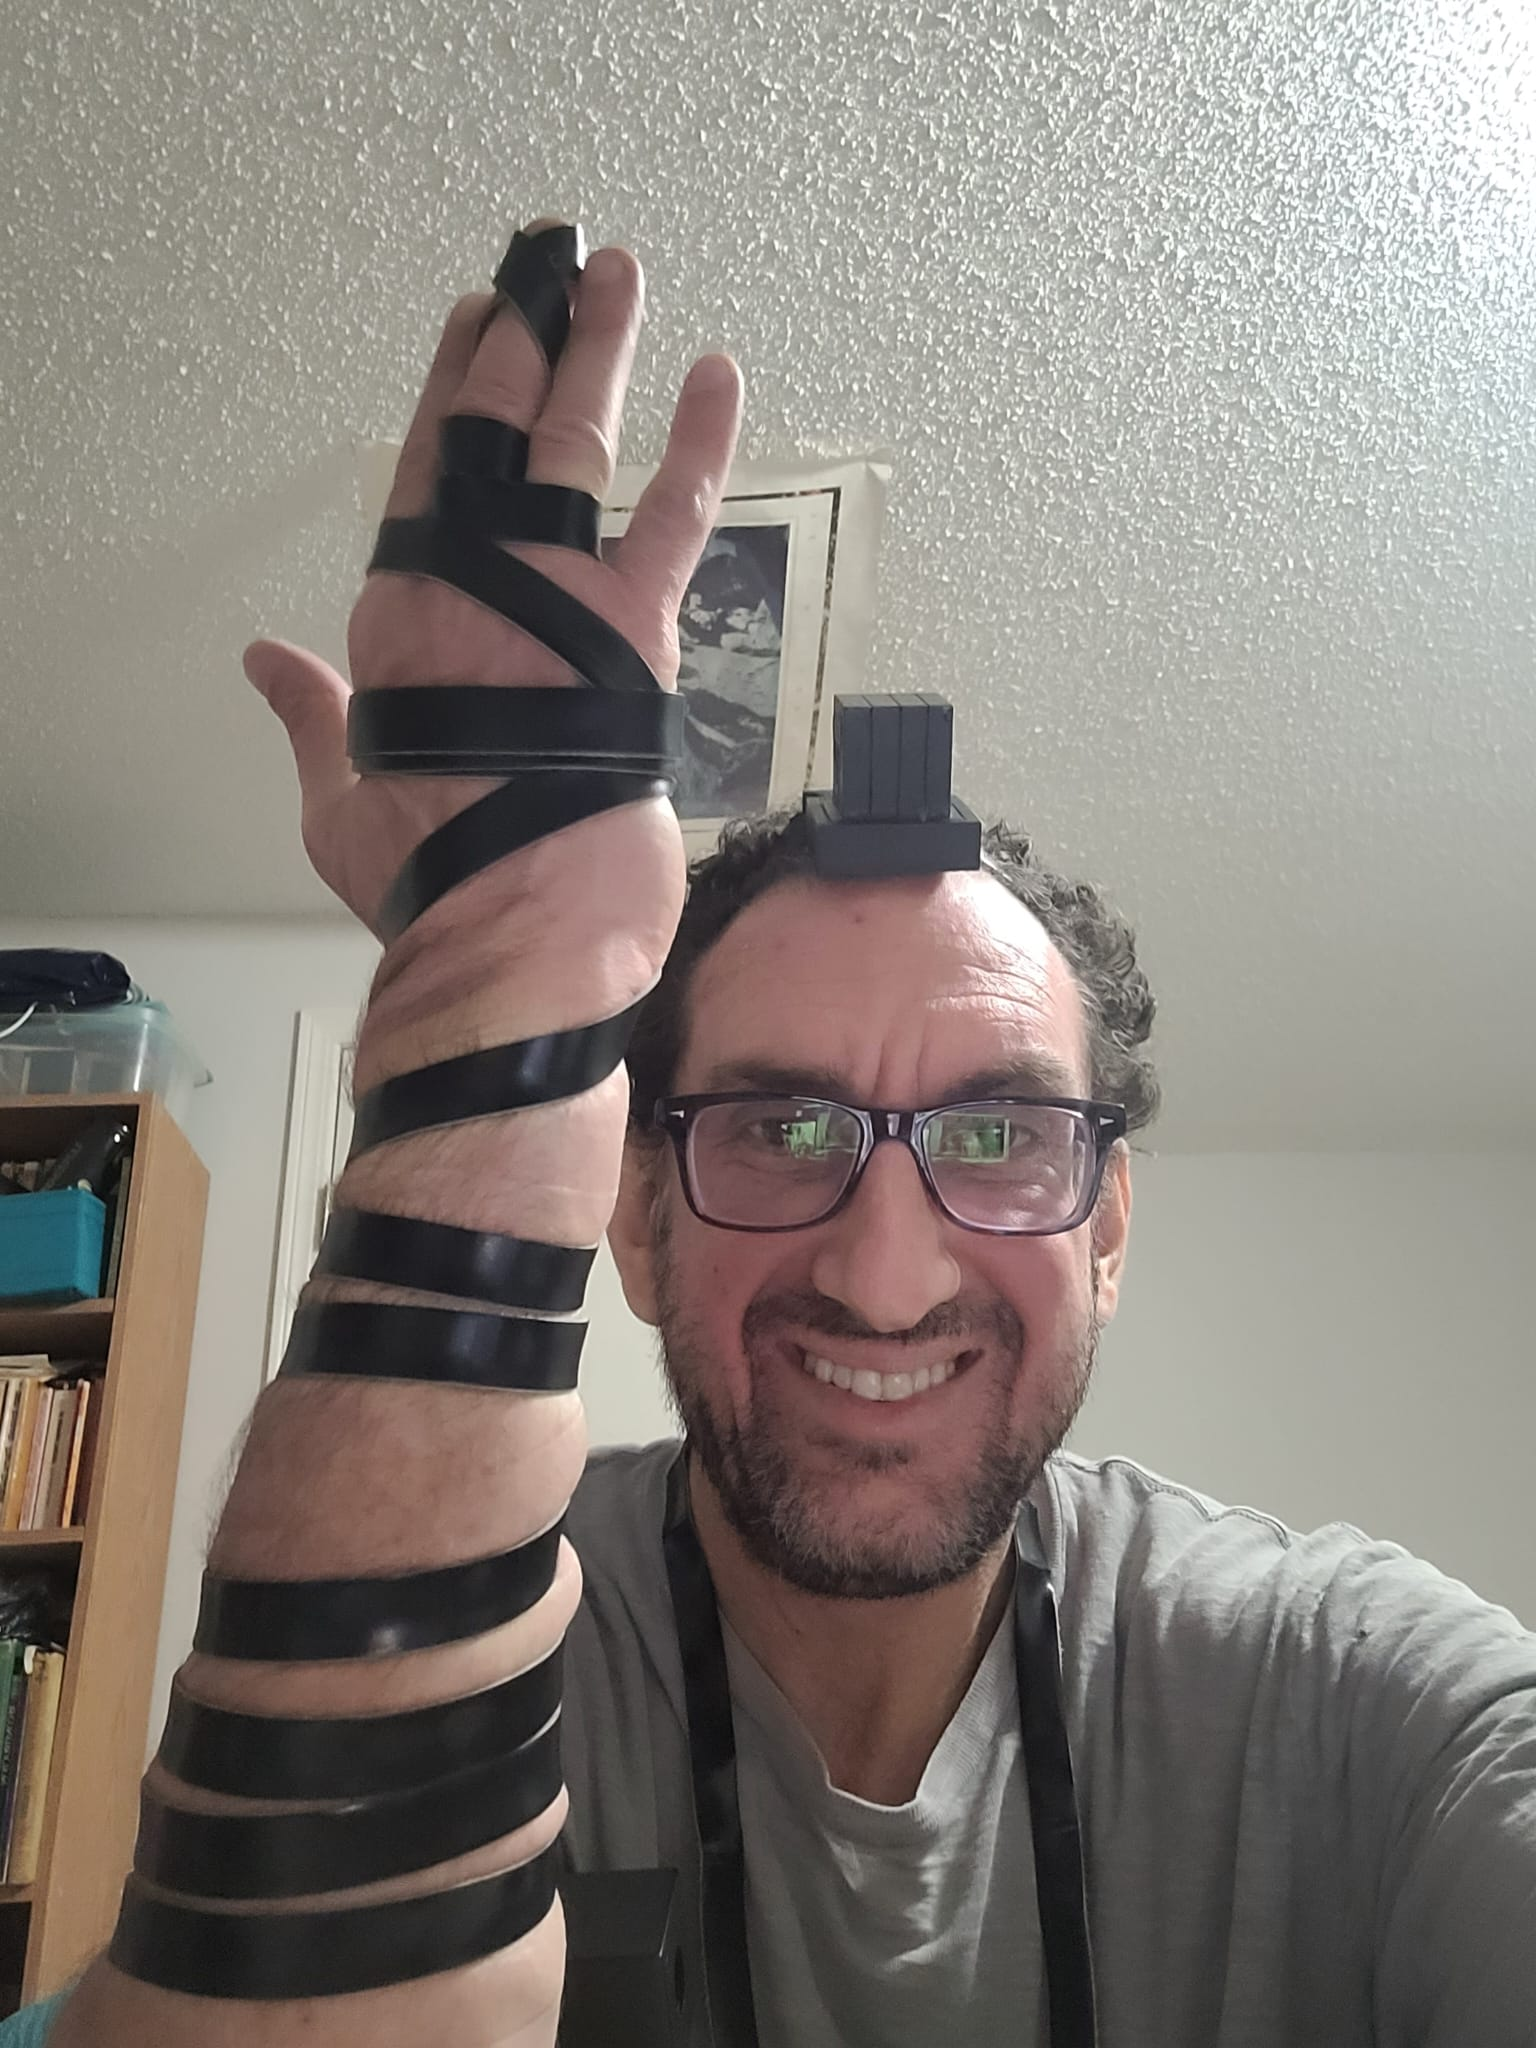tefillin: (802, 693, 981, 869), (558, 1850, 691, 2037)
